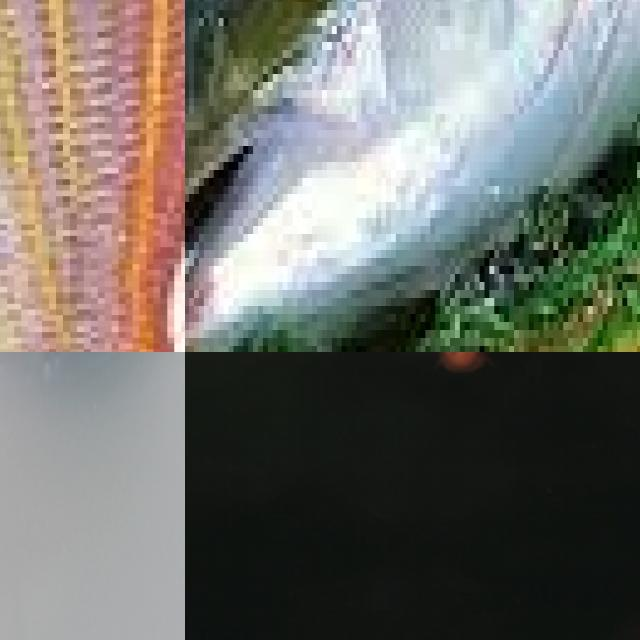fish: (185, 0, 640, 352), (0, 0, 185, 352), (0, 352, 185, 436)
